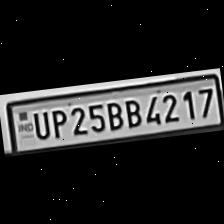1: (178, 86, 197, 120)
2: (157, 89, 180, 123), (66, 103, 88, 136)
4: (140, 92, 162, 126)
5: (84, 100, 107, 132)
7: (193, 84, 216, 118)
B: (120, 94, 142, 128), (102, 97, 122, 130)
P: (46, 105, 68, 138)
U: (29, 108, 51, 140)
